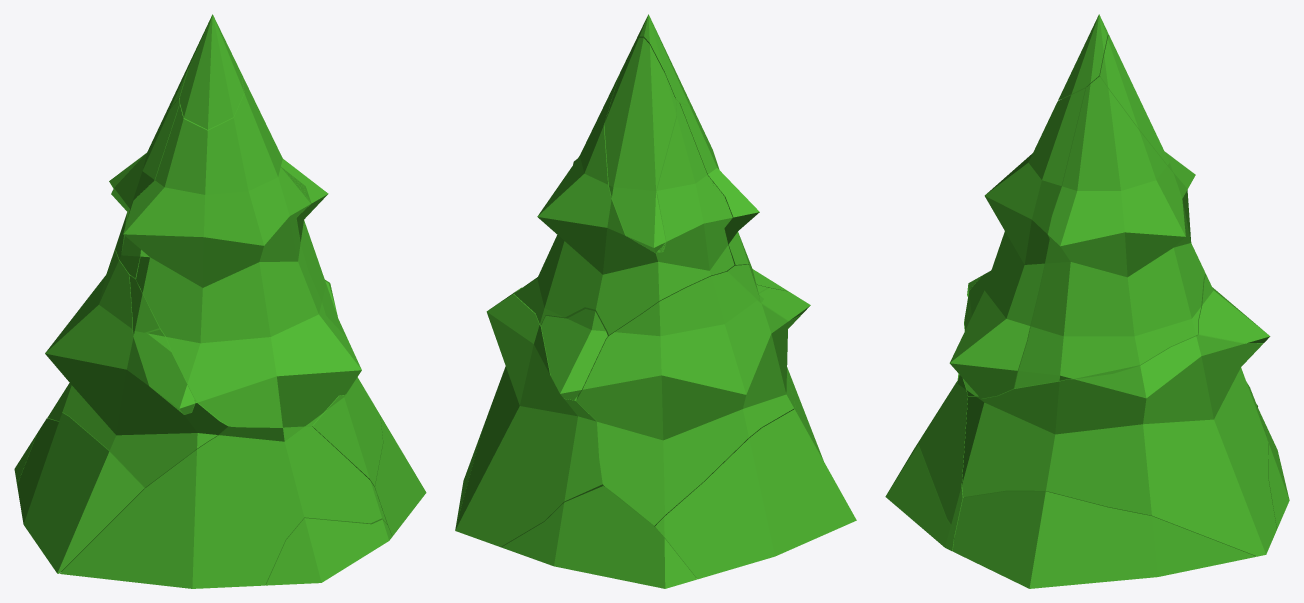
File: Tree_Broken.fbx
3 views of the same model, side by side, from view 1: azimuth 30°, elevation 25°; view 2: azimuth 150°, elevation 25°; view 3: azimuth 270°, elevation 25° (orthographic). The views are drawn at different scales.
Parts seen in each view (by area): view 1: Tree_cell.011, Tree_cell.001, Tree_cell.013, Tree_cell, Tree_cell.007, Tree_cell.005, Tree_cell.009, Tree_cell.014, Tree_cell.010, Tree_cell.002, Tree_cell.004; view 2: Tree_cell.013, Tree_cell.005, Tree_cell.014, Tree_cell, Tree_cell.004, Tree_cell.006, Tree_cell.003, Tree_cell.011, Tree_cell.010, Tree_cell.009; view 3: Tree_cell.014, Tree_cell.005, Tree_cell.002, Tree_cell.011, Tree_cell.001, Tree_cell.007, Tree_cell.004, Tree_cell.003, Tree_cell.009, Tree_cell.006.
Boxes of the visible parts, x1,y1,x2,y2 form: Tree_cell.011: (123, 78, 361, 427); Tree_cell.001: (60, 426, 387, 588); Tree_cell.013: (45, 246, 228, 488); Tree_cell: (17, 413, 144, 573); Tree_cell.007: (266, 518, 392, 585); Tree_cell.005: (111, 71, 346, 337); Tree_cell.009: (180, 14, 244, 129); Tree_cell.014: (312, 280, 382, 486); Tree_cell.010: (129, 275, 194, 414); Tree_cell.002: (374, 415, 426, 536); Tree_cell.004: (109, 39, 200, 191); Tree_cell.013: (576, 271, 800, 526); Tree_cell.005: (514, 74, 734, 336); Tree_cell.014: (455, 289, 604, 547); Tree_cell: (655, 409, 856, 579); Tree_cell.004: (604, 37, 676, 253); Tree_cell.006: (501, 486, 696, 588); Tree_cell.003: (541, 309, 607, 400); Tree_cell.011: (676, 99, 788, 291); Tree_cell.010: (728, 264, 810, 320); Tree_cell.009: (633, 14, 689, 105); Tree_cell.014: (962, 333, 1276, 556); Tree_cell.005: (1014, 76, 1205, 388); Tree_cell.002: (952, 491, 1256, 588); Tree_cell.011: (949, 86, 1087, 398); Tree_cell.001: (914, 373, 968, 539); Tree_cell.007: (885, 445, 953, 550); Tree_cell.004: (1100, 34, 1195, 188); Tree_cell.003: (1199, 274, 1270, 343); Tree_cell.009: (1058, 14, 1108, 100); Tree_cell.006: (1257, 406, 1289, 528).
Bounding box in the file's own units: 1.54 × 2.01 × 1.51.
